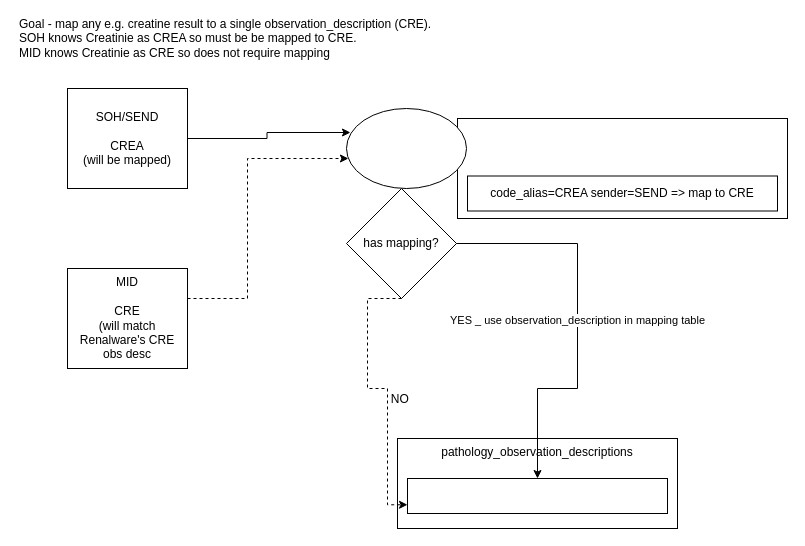
The diagram is 805 pixels wide and 546 high, and some of its shapes have lost their labels. The box of each missing label's shape, as (x1, y1, x2, y2) in pixels:
code=CRE: (406, 478, 668, 514)
Lookup mapping: (346, 108, 466, 188)
obx_mappings: (456, 118, 788, 218)
